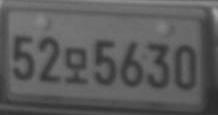0: (173, 43, 198, 92)
2: (38, 37, 60, 83)
3: (146, 43, 170, 89)
5: (93, 40, 117, 85), (12, 35, 35, 81)
6: (119, 41, 144, 88)
모: (65, 46, 88, 85)
